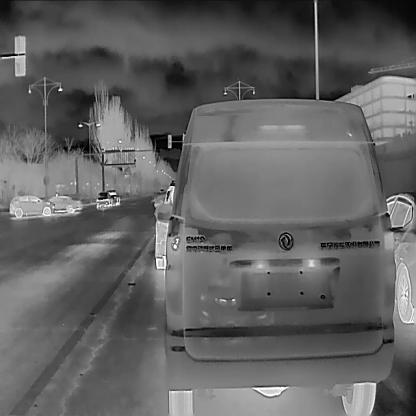car: (152, 98, 397, 415), (383, 190, 415, 324), (152, 180, 176, 269), (8, 194, 56, 217), (47, 194, 83, 215), (94, 190, 113, 208), (106, 189, 120, 205), (159, 188, 164, 193)
